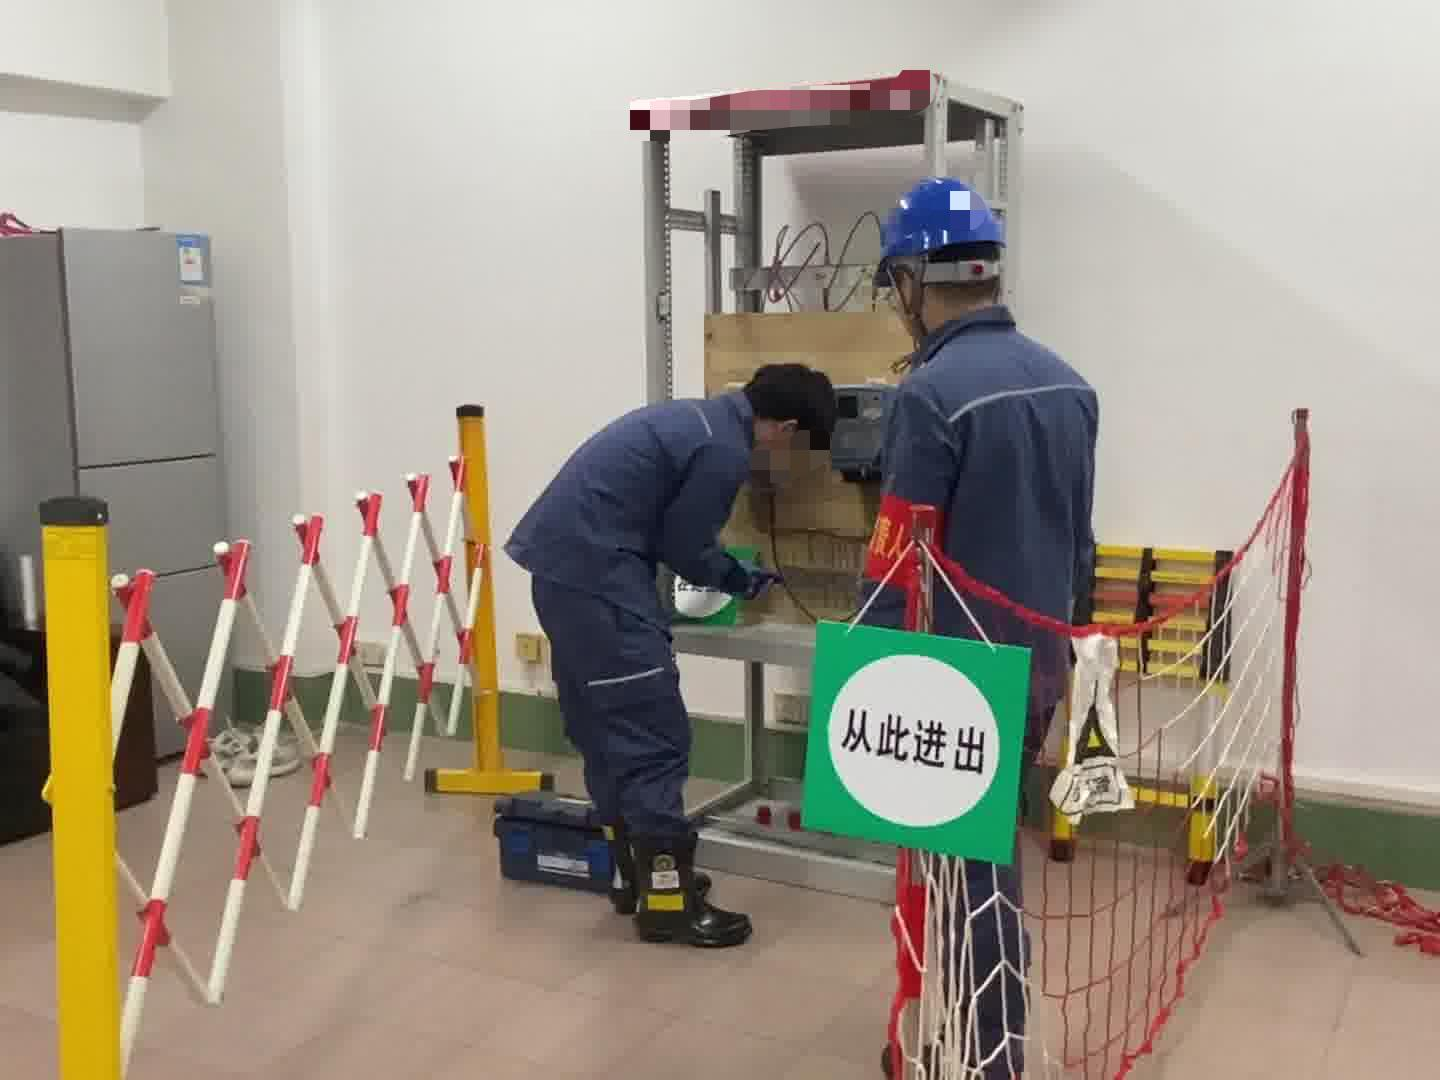halt: (875, 177, 1010, 331)
inear: (891, 262, 932, 330)
noear: (760, 412, 804, 457)
unhalt: (745, 360, 842, 481)
